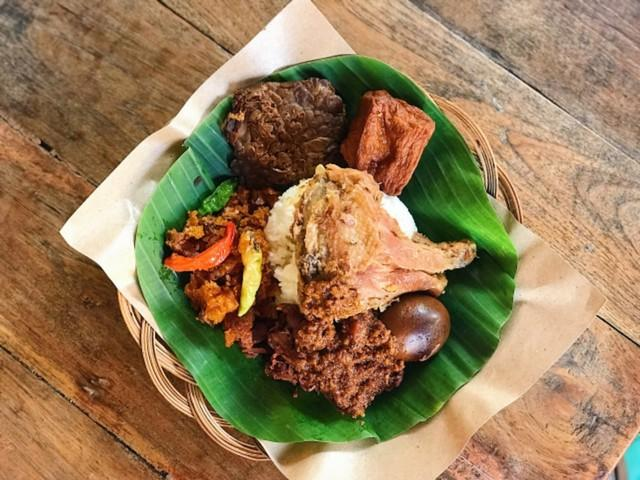gudeg: (163, 78, 478, 420)
